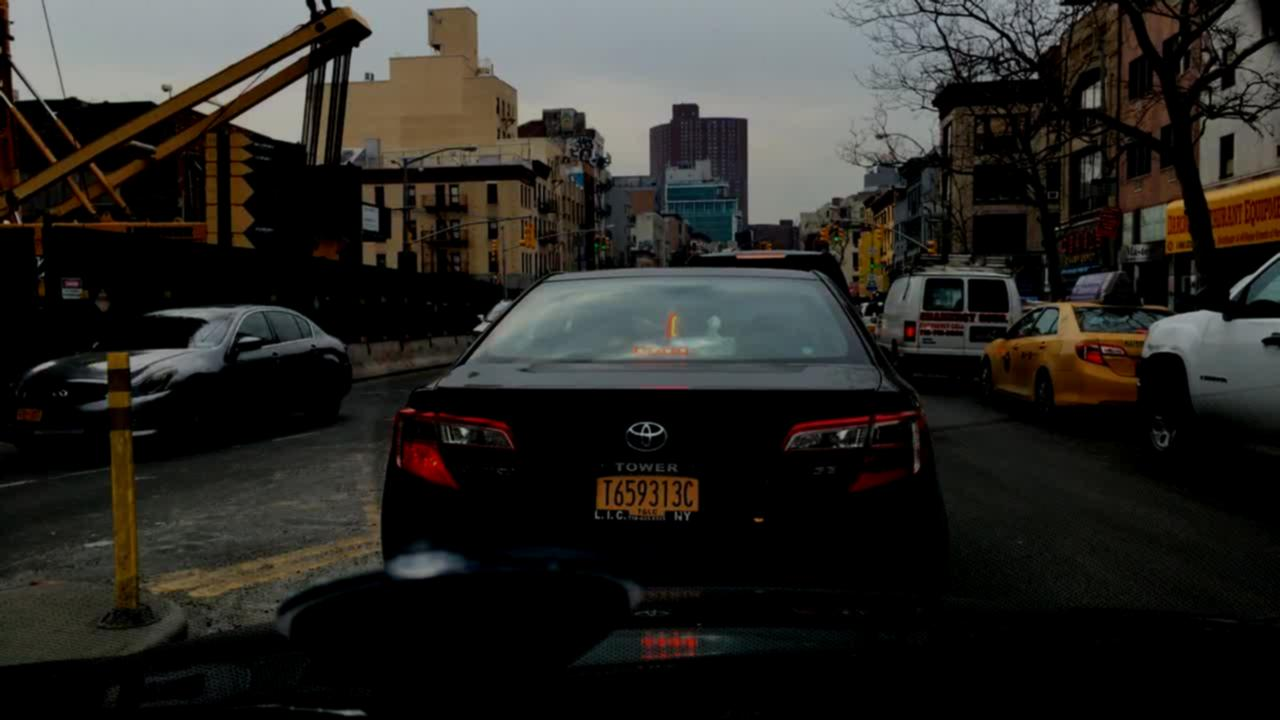Infiniti: (45, 385, 79, 403)
Toyota: (601, 415, 690, 460)
